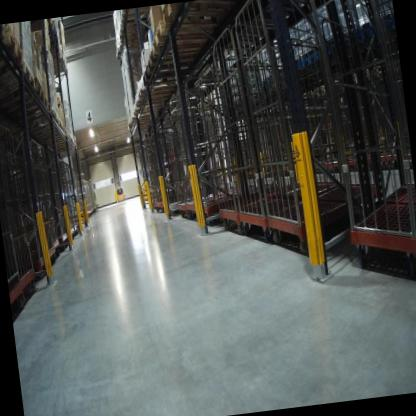pallet: (150, 13, 258, 55), (158, 0, 257, 33), (144, 35, 203, 76), (139, 53, 206, 85), (0, 70, 51, 110), (0, 61, 38, 96), (0, 25, 27, 73), (116, 13, 155, 46), (133, 87, 187, 110), (10, 94, 55, 120), (134, 77, 186, 99), (366, 14, 396, 43), (32, 122, 70, 142), (295, 46, 323, 73), (119, 6, 154, 23), (24, 111, 60, 127), (46, 42, 66, 66), (45, 141, 77, 154), (51, 60, 71, 76), (66, 130, 73, 143)
pallet_truck: (110, 177, 129, 202)
